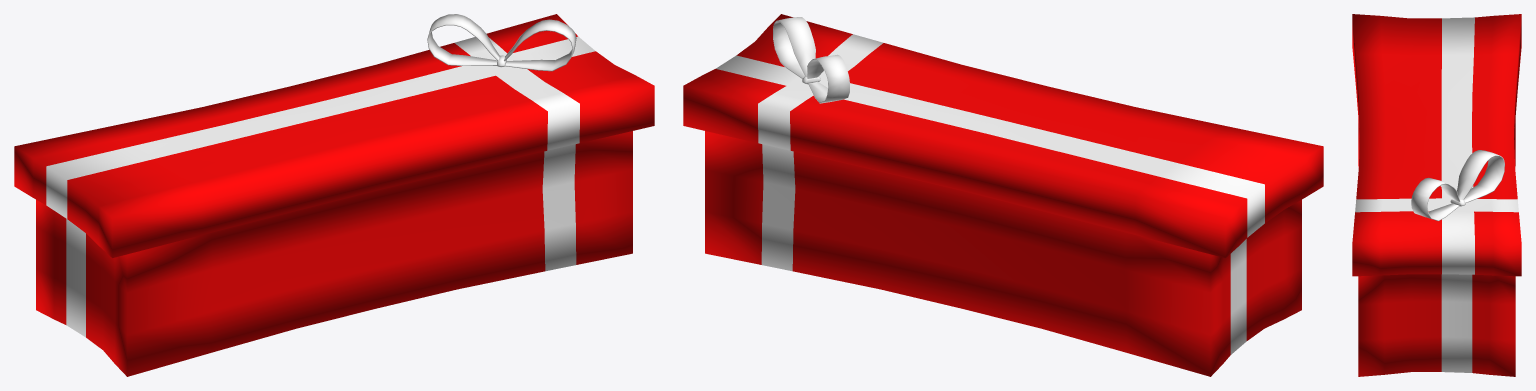
File: large_gift_done.fbx
3 views of the same model, side by side, from view 1: azimuth 30°, elevation 25°; view 2: azimuth 150°, elevation 25°; view 3: azimuth 270°, elevation 25° (orthographic). The views are drawn at different scales.
Parts seen in each view (by area): view 1: box; view 2: box; view 3: box.
Part boxes in pixels (<box>): box: <box>14,14,654,376</box>; box: <box>683,14,1323,376</box>; box: <box>1352,14,1521,376</box>.
Bounding box in the file's own units: 781 × 285 × 245.
